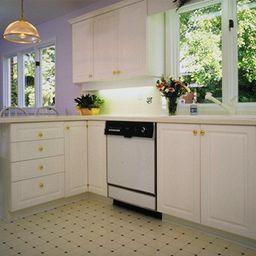Electrodomestico: (104, 120, 157, 214)
Lavaplatos: (163, 93, 250, 123)
